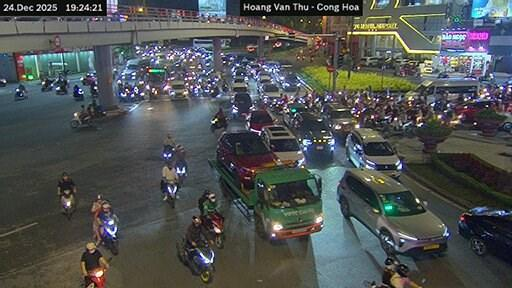motorbike: (176, 238, 214, 282), (204, 212, 223, 247), (102, 216, 117, 253), (61, 189, 74, 219), (85, 266, 103, 287), (70, 112, 93, 127), (163, 181, 176, 207), (175, 161, 185, 185), (211, 117, 227, 131), (362, 280, 387, 287), (163, 144, 173, 160), (118, 88, 131, 100), (13, 89, 26, 99), (41, 80, 53, 90), (54, 85, 67, 94), (90, 84, 98, 98), (73, 88, 83, 99)
